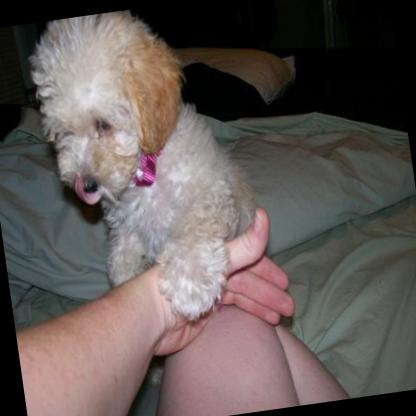miniature_poodle: (19, 0, 271, 339)
